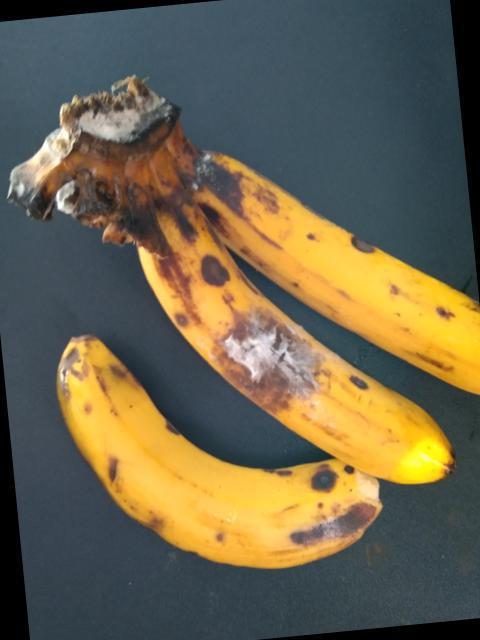overripe: (46, 345, 402, 587), (127, 236, 452, 500), (193, 154, 479, 368)
